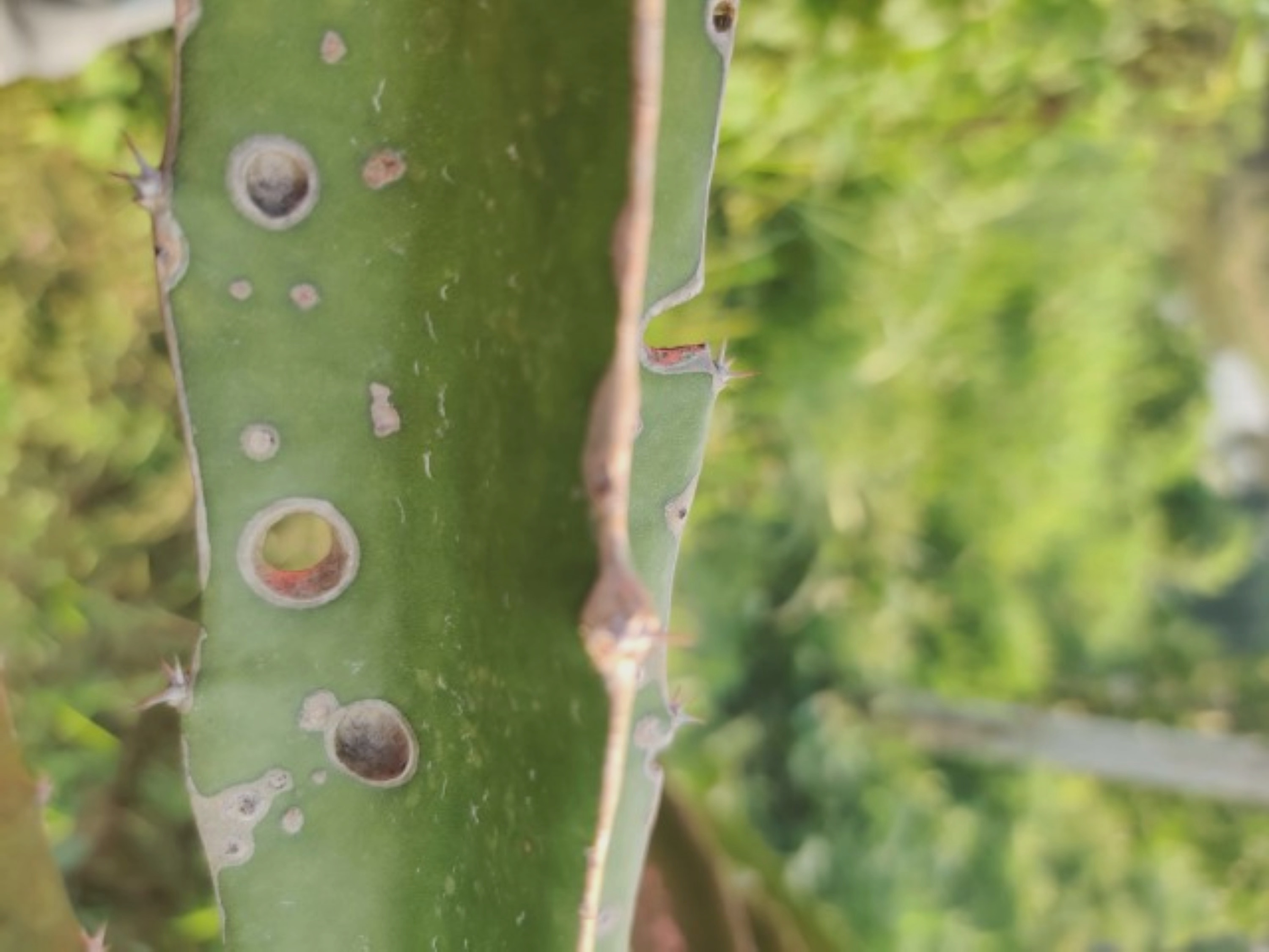stemcanker: (93, 93, 478, 867)
